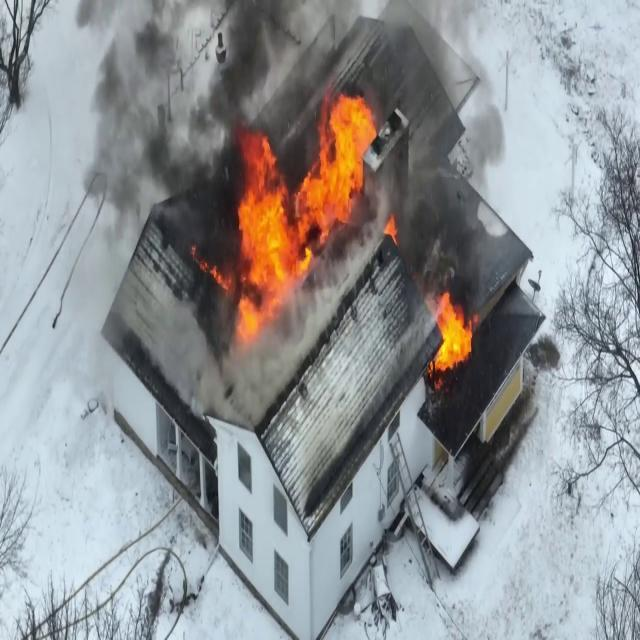Fire: (222, 86, 384, 340), (425, 284, 477, 380)
Smoke: (79, 0, 233, 272), (386, 0, 508, 293)
